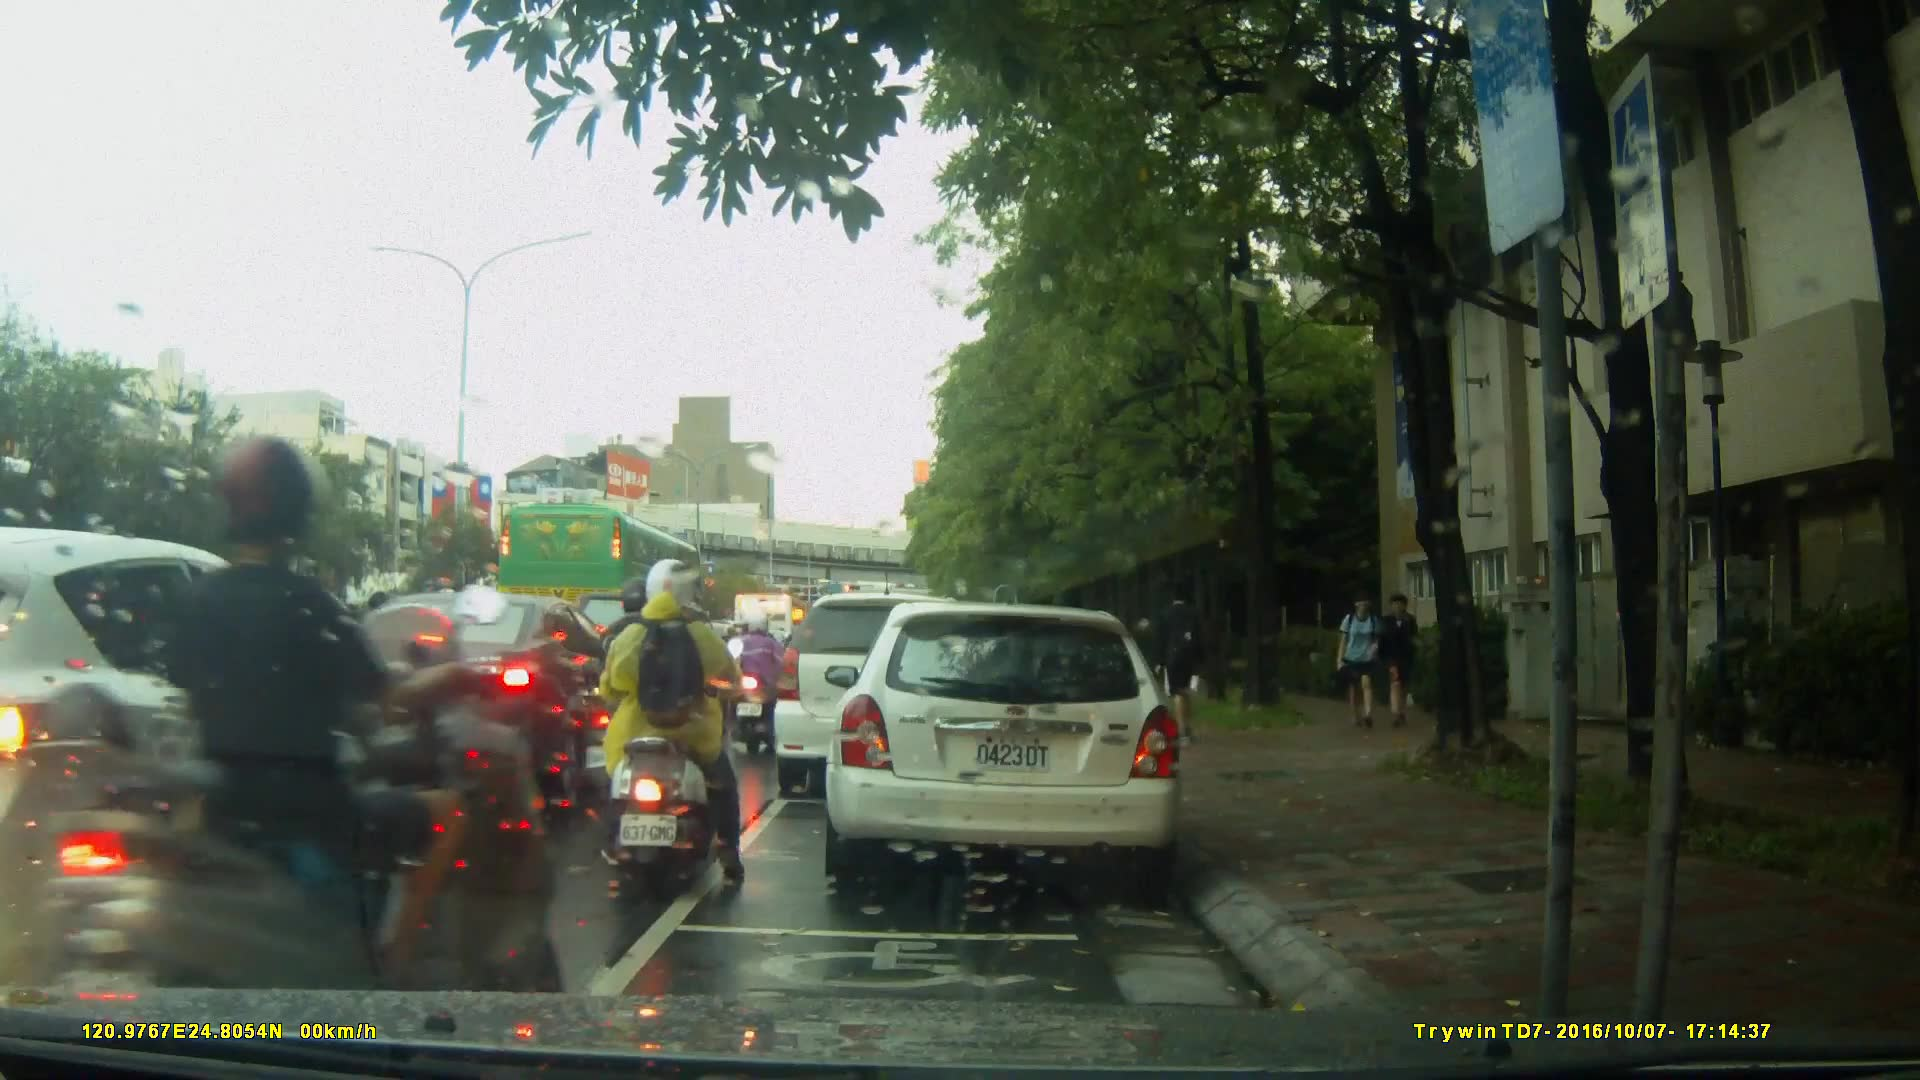pedestrian: (1152, 585, 1208, 751), (1326, 586, 1381, 736), (1377, 585, 1418, 733)
rider: (31, 427, 538, 1080), (602, 558, 753, 879), (581, 587, 689, 820), (733, 610, 793, 756)
vehicle: (1, 525, 434, 986), (831, 592, 1196, 897), (315, 593, 659, 801), (770, 592, 999, 800), (495, 502, 707, 640)
